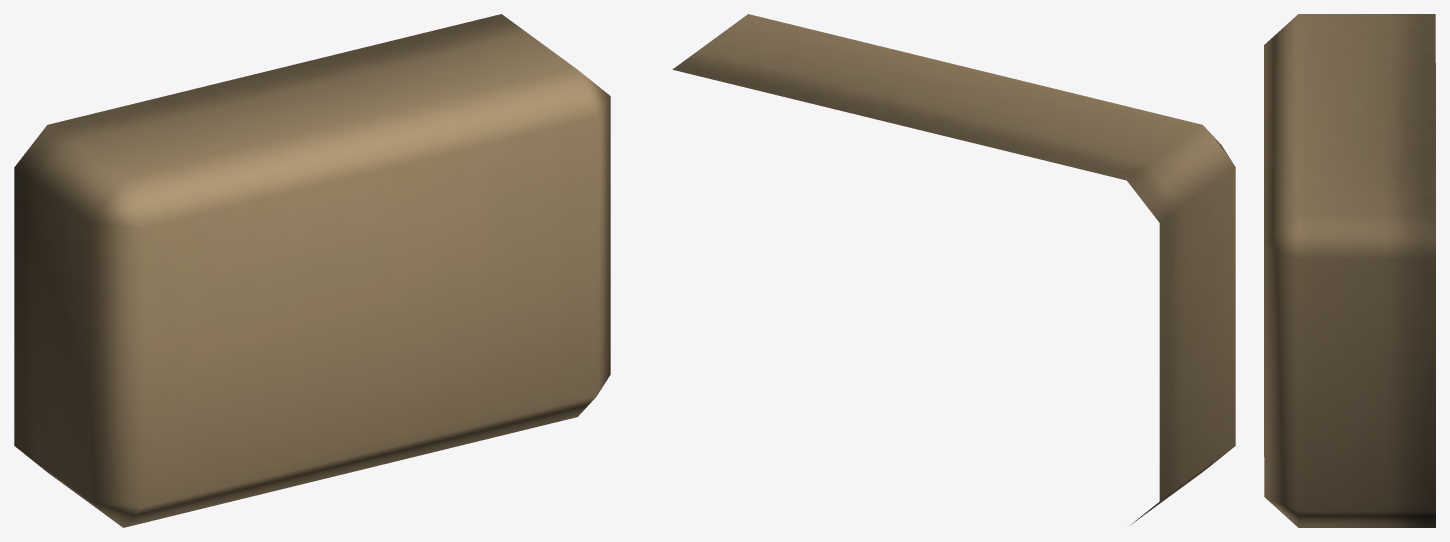
The model's file is wallButton_model.glb.
3 renders of one model, left to right at view 1: azimuth 30°, elevation 25°; view 2: azimuth 150°, elevation 25°; view 3: azimuth 270°, elevation 25°, orthographic. The views are drawn at different scales.
Visible parts, largest first — view 1: button_t3; view 2: button_t3; view 3: button_t3.
Part boxes in pixels (bbox=[...]): button_t3: bbox=[14, 14, 610, 527]; button_t3: bbox=[672, 14, 1235, 524]; button_t3: bbox=[1264, 14, 1435, 527].
Size of what is drawn, in the model's own units: 0.8575 by 0.5471 by 0.2716.
1 material, 1 textured.
